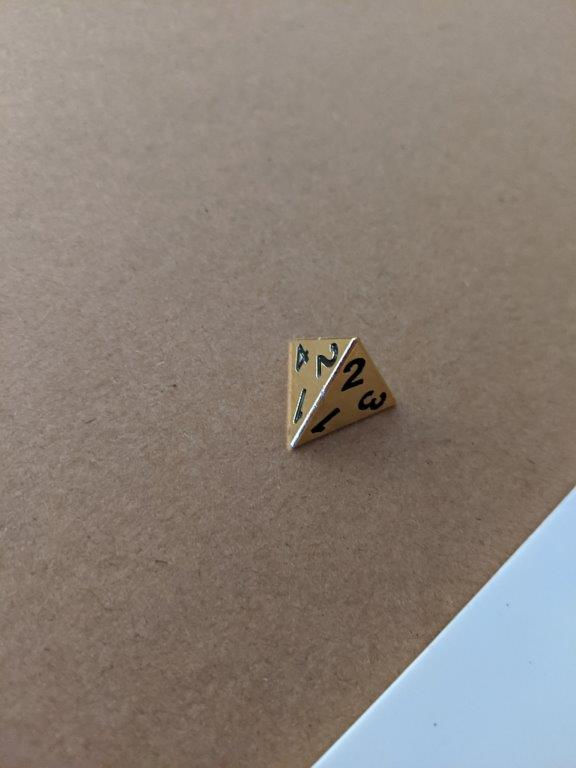d4-2: (275, 329, 401, 448)
